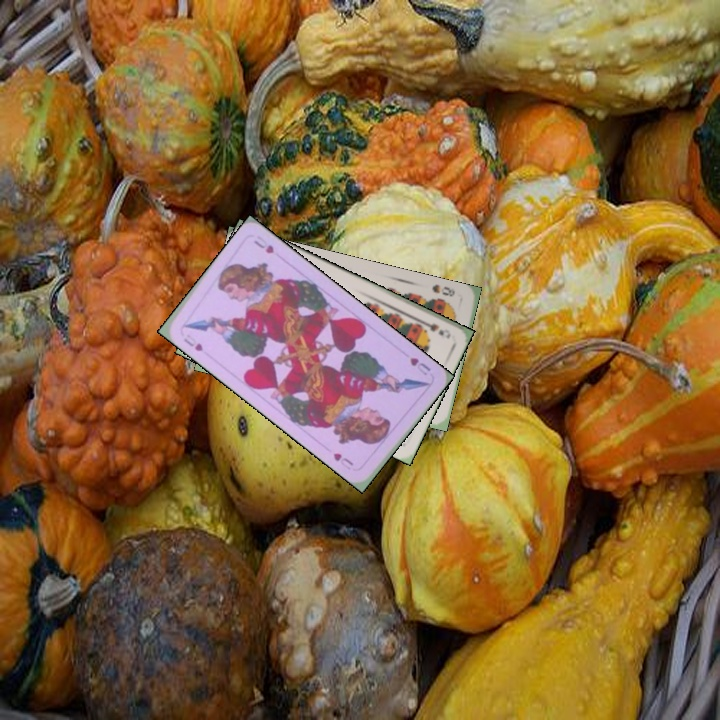HU: (406, 353, 433, 378), (179, 334, 206, 354)
S8: (428, 280, 458, 299)
S9: (414, 316, 453, 341)
